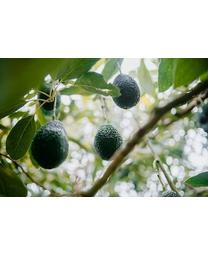avocado: (30, 121, 70, 170), (110, 72, 141, 111), (94, 125, 124, 161), (37, 82, 62, 115)
